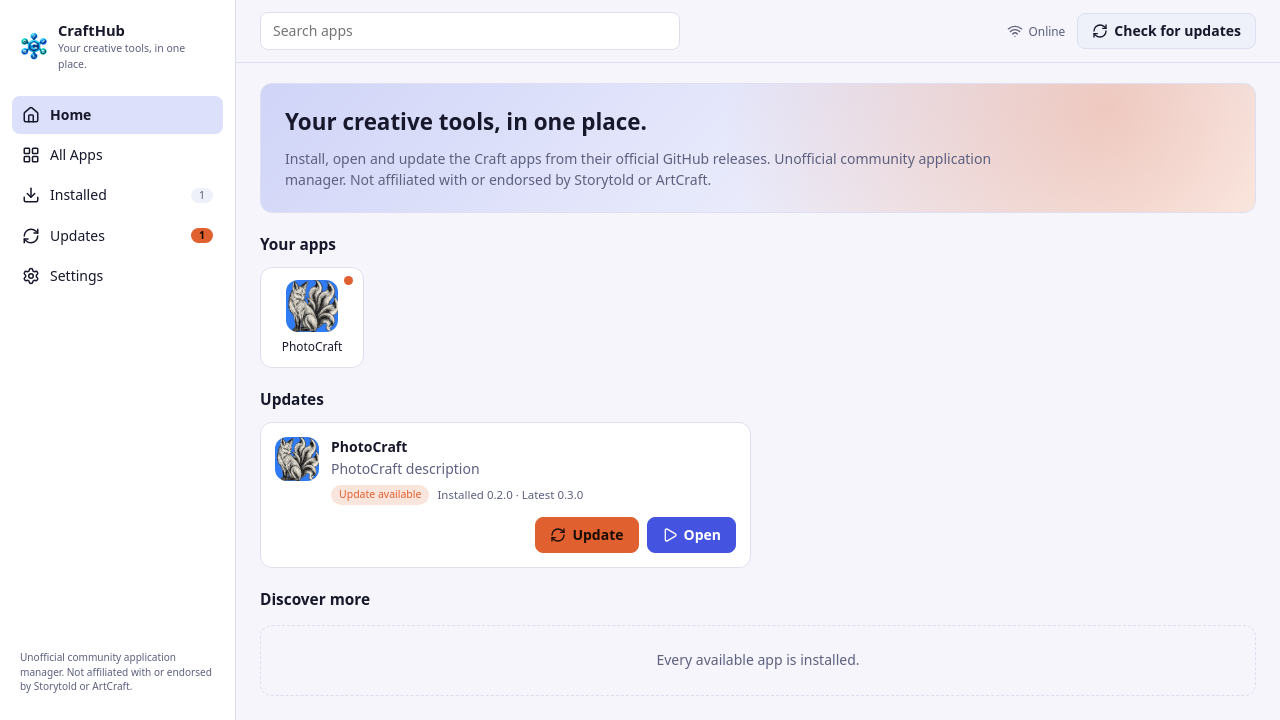
Test: installed apps › summarizes Update All results
Click the button "Updates 1" at (118, 236), box [12,217,223,255]
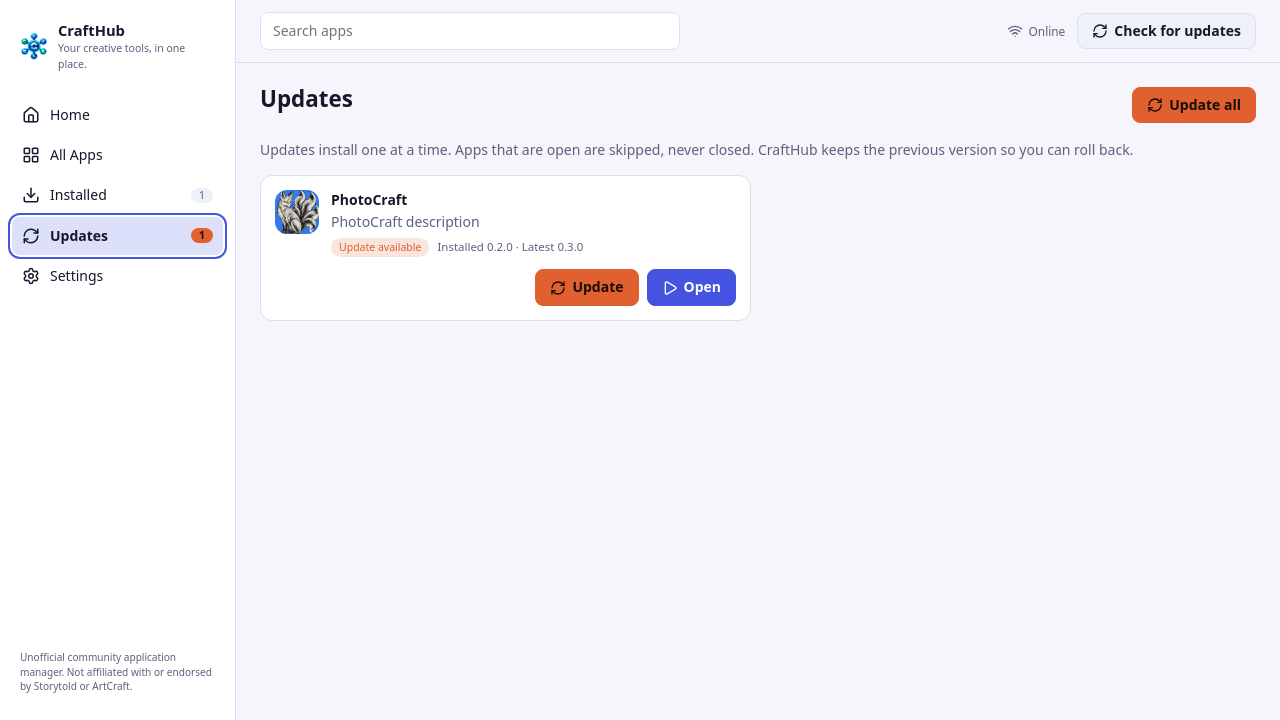
Click the button "Update all" at (1194, 105), box [1132,87,1256,123]
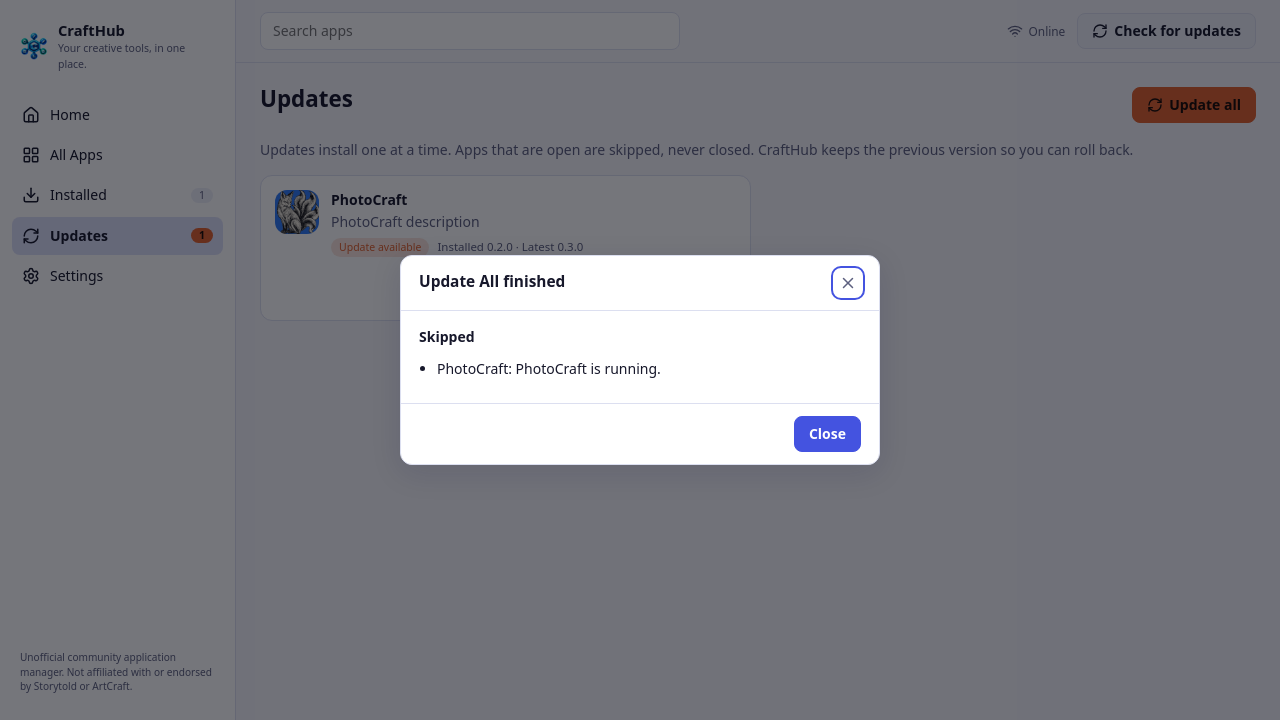
Now the list item "PhotoCraft: PhotoCraft is running." is shown, box [437,359,661,378]
